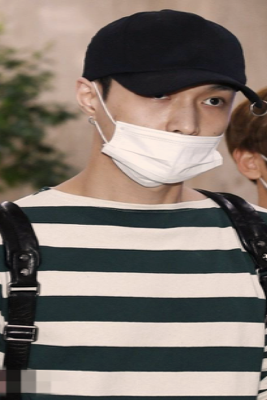mask_weared_incorrect: (96, 86, 233, 184)
